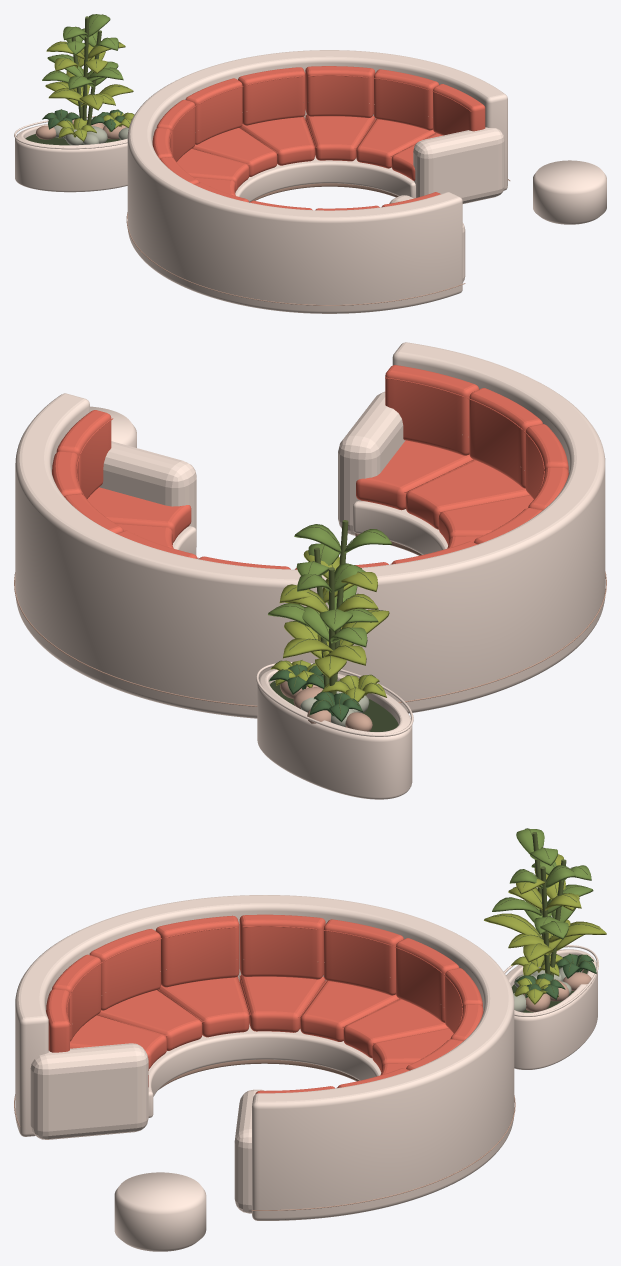
Rendered from 03_reading_nook.glb.
3 views of the same model, one above another, from view 1: azimuth 30°, elevation 25°; view 2: azimuth 150°, elevation 25°; view 3: azimuth 270°, elevation 25° (orthographic). The views are drawn at different scales.
Visible parts, largest first — view 1: Sofas / Ceramic shell / Warm Ivory / Ceramic.001, Sofas / Back cushions / Coral / Upholstery.001, Sofas / Seat cushions / Coral / Upholstery.001, Planting / Ceramic planters / Warm Ivory / Ceramic.002, Tables / Side table / Warm Ivory / Ceramic, Planting / Leaves / Natural lime foliage.002, Planting / Leaves / Natural sage foliage.002, Planting / Stems / Natural olive stems.002, Sofas / Ceramic shell / Soft Taupe / Recess and stone.001, Planting / Leaves / Natural deep green foliage.002, Planting / River stones / Natural pale river pebble.002, Planting / River stones / Soft Taupe / Recess and stone.002 (+1 smaller); view 2: Sofas / Ceramic shell / Warm Ivory / Ceramic.001, Sofas / Back cushions / Coral / Upholstery.001, Sofas / Seat cushions / Coral / Upholstery.001, Planting / Ceramic planters / Warm Ivory / Ceramic.002, Planting / Leaves / Natural lime foliage.002, Planting / Leaves / Natural sage foliage.002, Planting / Stems / Natural olive stems.002, Planting / Leaves / Natural deep green foliage.002, Sofas / Ceramic shell / Soft Taupe / Recess and stone.001, Planting / River stones / Soft Taupe / Recess and stone.002, Planting / Soil / Natural dark soil.002, Tables / Side table / Warm Ivory / Ceramic; view 3: Sofas / Ceramic shell / Warm Ivory / Ceramic.001, Sofas / Back cushions / Coral / Upholstery.001, Sofas / Seat cushions / Coral / Upholstery.001, Tables / Side table / Warm Ivory / Ceramic, Planting / Ceramic planters / Warm Ivory / Ceramic.002, Planting / Leaves / Natural lime foliage.002, Planting / Leaves / Natural sage foliage.002, Planting / Stems / Natural olive stems.002, Sofas / Ceramic shell / Soft Taupe / Recess and stone.001, Planting / Leaves / Natural deep green foliage.002, Planting / River stones / Soft Taupe / Recess and stone.002, Sofas / Back cushions / Coral / Sewn welt.001 (+1 smaller).
Boxes of the visible parts, bbox=[...] form: Sofas / Ceramic shell / Warm Ivory / Ceramic.001: bbox=[127, 50, 507, 313]; Sofas / Back cushions / Coral / Upholstery.001: bbox=[152, 66, 485, 210]; Sofas / Seat cushions / Coral / Upholstery.001: bbox=[176, 115, 442, 195]; Planting / Ceramic planters / Warm Ivory / Ceramic.002: bbox=[14, 116, 127, 192]; Tables / Side table / Warm Ivory / Ceramic: bbox=[533, 160, 606, 224]; Planting / Leaves / Natural lime foliage.002: bbox=[45, 41, 134, 141]; Planting / Leaves / Natural sage foliage.002: bbox=[42, 14, 123, 89]; Planting / Stems / Natural olive stems.002: bbox=[45, 14, 134, 136]; Sofas / Ceramic shell / Soft Taupe / Recess and stone.001: bbox=[126, 179, 510, 305]; Planting / Leaves / Natural deep green foliage.002: bbox=[42, 109, 125, 131]; Planting / River stones / Natural pale river pebble.002: bbox=[54, 125, 128, 145]; Planting / River stones / Soft Taupe / Recess and stone.002: bbox=[35, 119, 126, 139]; Sofas / Ceramic shell / Warm Ivory / Ceramic.001: bbox=[15, 342, 605, 718]; Sofas / Back cushions / Coral / Upholstery.001: bbox=[52, 365, 568, 569]; Sofas / Seat cushions / Coral / Upholstery.001: bbox=[87, 440, 533, 548]; Planting / Ceramic planters / Warm Ivory / Ceramic.002: bbox=[256, 662, 413, 799]; Planting / Leaves / Natural lime foliage.002: bbox=[270, 550, 389, 702]; Planting / Leaves / Natural sage foliage.002: bbox=[268, 524, 392, 647]; Planting / Stems / Natural olive stems.002: bbox=[273, 520, 385, 713]; Planting / Leaves / Natural deep green foliage.002: bbox=[269, 664, 363, 722]; Sofas / Ceramic shell / Soft Taupe / Recess and stone.001: bbox=[14, 533, 606, 706]; Planting / River stones / Soft Taupe / Recess and stone.002: bbox=[280, 681, 372, 731]; Planting / Soil / Natural dark soil.002: bbox=[270, 680, 398, 731]; Tables / Side table / Warm Ivory / Ceramic: bbox=[90, 406, 136, 447]; Sofas / Ceramic shell / Warm Ivory / Ceramic.001: bbox=[15, 895, 514, 1220]; Sofas / Back cushions / Coral / Upholstery.001: bbox=[46, 914, 483, 1093]; Sofas / Seat cushions / Coral / Upholstery.001: bbox=[70, 974, 453, 1086]; Tables / Side table / Warm Ivory / Ceramic: bbox=[114, 1172, 206, 1251]; Planting / Ceramic planters / Warm Ivory / Ceramic.002: bbox=[504, 945, 598, 1069]; Planting / Leaves / Natural lime foliage.002: bbox=[484, 854, 606, 1004]; Planting / Leaves / Natural sage foliage.002: bbox=[492, 828, 593, 939]; Planting / Stems / Natural olive stems.002: bbox=[491, 828, 599, 997]; Sofas / Ceramic shell / Soft Taupe / Recess and stone.001: bbox=[14, 1059, 515, 1210]; Planting / Leaves / Natural deep green foliage.002: bbox=[515, 954, 596, 999]; Planting / River stones / Soft Taupe / Recess and stone.002: bbox=[523, 969, 591, 1012]; Sofas / Back cushions / Coral / Sewn welt.001: bbox=[66, 926, 462, 1087].
Size of the model in its own units: 4.7 by 1.77 by 4.66.
